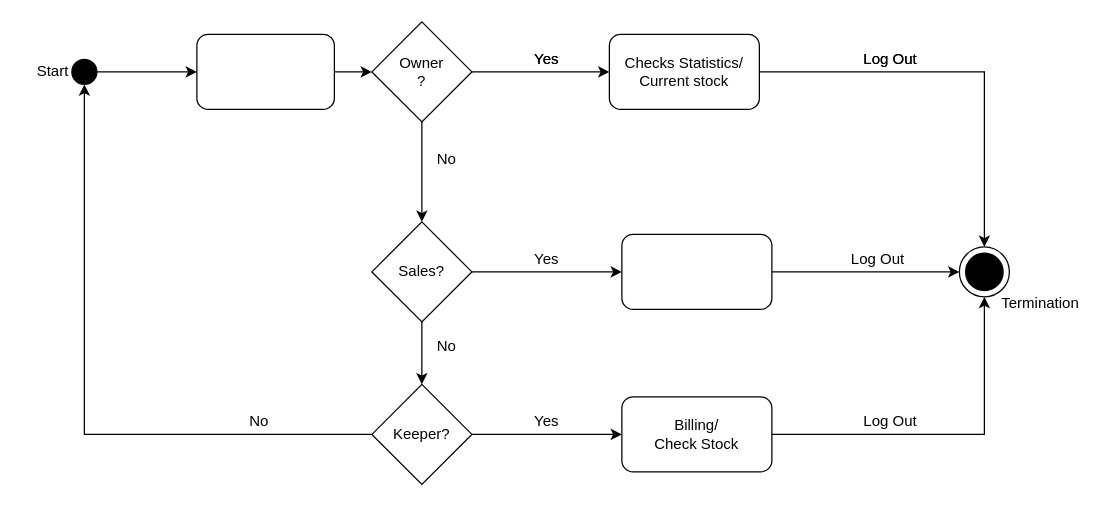
This 1100x506 diagram has some shape labels left out. Here are the shapes that lost their labels. From the top down, the centre of each, then its label:
At [265,71]: "User Logs in".
At [696,271]: "Update Stock/ Check Stock".
